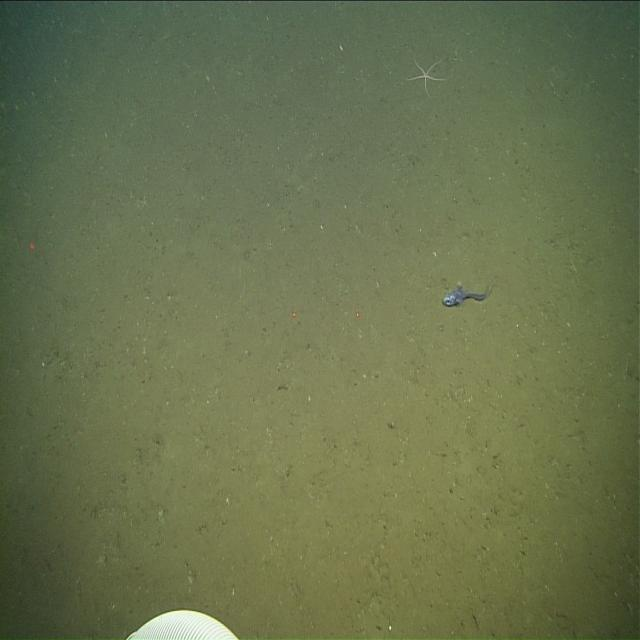Brittle Star: (406, 47, 452, 100)
